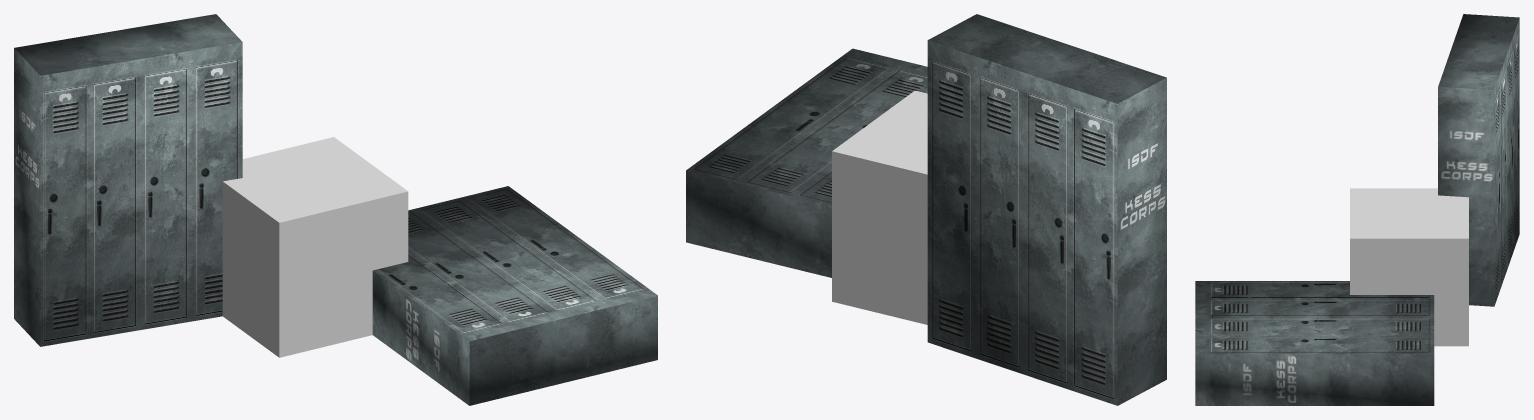
File: pbscen05.FBX
The picture shows the model from 3 angles, left to right: view 1: azimuth 30°, elevation 25°; view 2: azimuth 150°, elevation 25°; view 3: azimuth 270°, elevation 25°; orthographic projection. The views are drawn at different scales.
Parts seen in each view (by area): view 1: pbscen05, hp_dummyroot; view 2: pbscen05, hp_dummyroot; view 3: pbscen05, hp_dummyroot.
Boxes of the visible parts, box(x1,y1,x2,y2) form: pbscen05: box(14, 14, 657, 405); hp_dummyroot: box(222, 137, 408, 357); pbscen05: box(686, 14, 1166, 405); hp_dummyroot: box(832, 90, 927, 324); pbscen05: box(1195, 14, 1519, 405); hp_dummyroot: box(1350, 188, 1468, 346).
Size of the model in its own units: 3.49 by 2.73 by 2.01.
